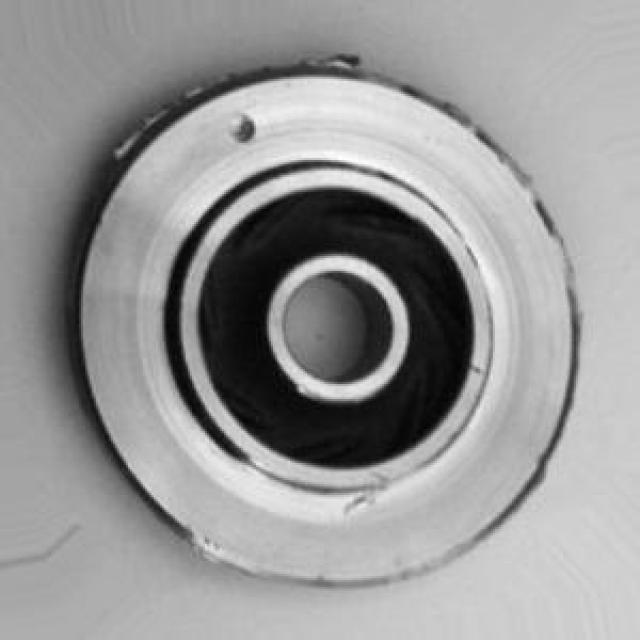Defect: (226, 102, 269, 156)
